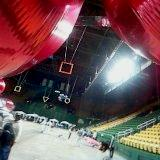Orange_Square_GShape: (59, 60, 73, 74)
Yellow_Circle_GShape: (65, 98, 70, 104)
Yellow_Triangle_Gshape: (43, 96, 49, 103)
